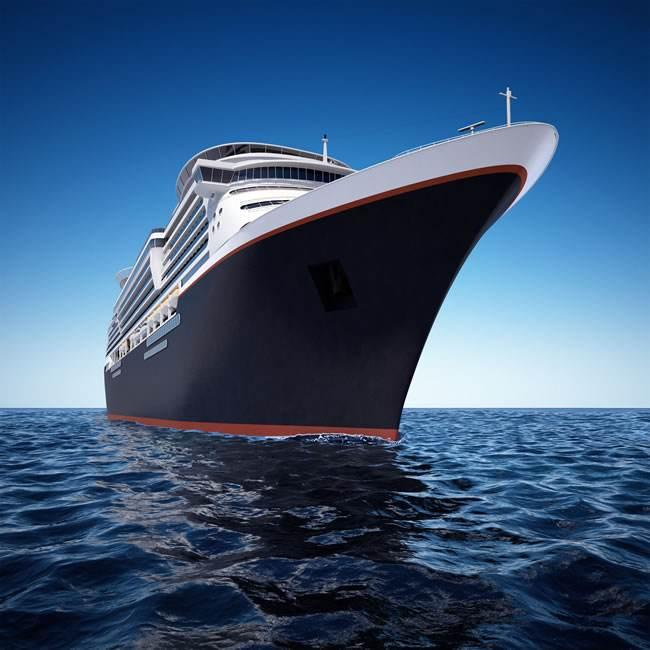youlun: (99, 104, 566, 477)
